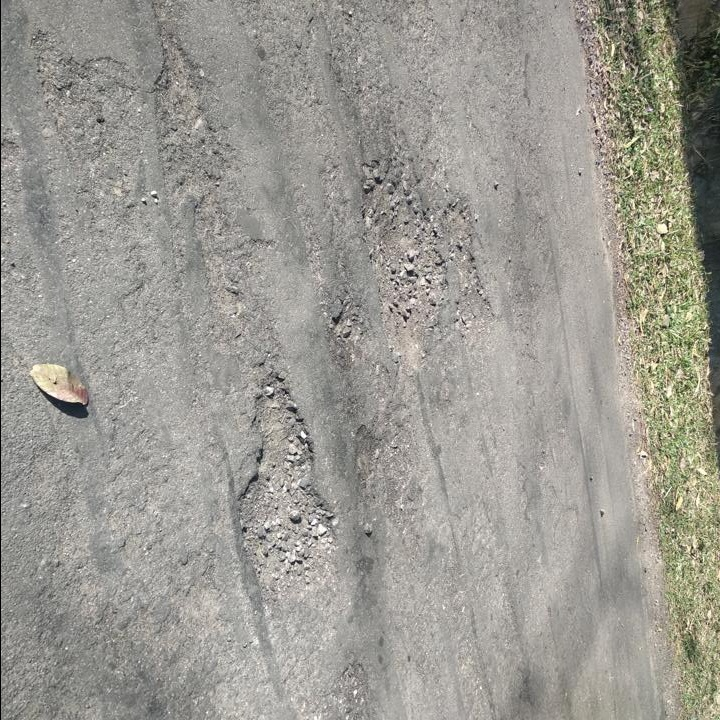pothole: (238, 369, 344, 599), (365, 137, 449, 366), (444, 193, 498, 349), (324, 299, 365, 350)
